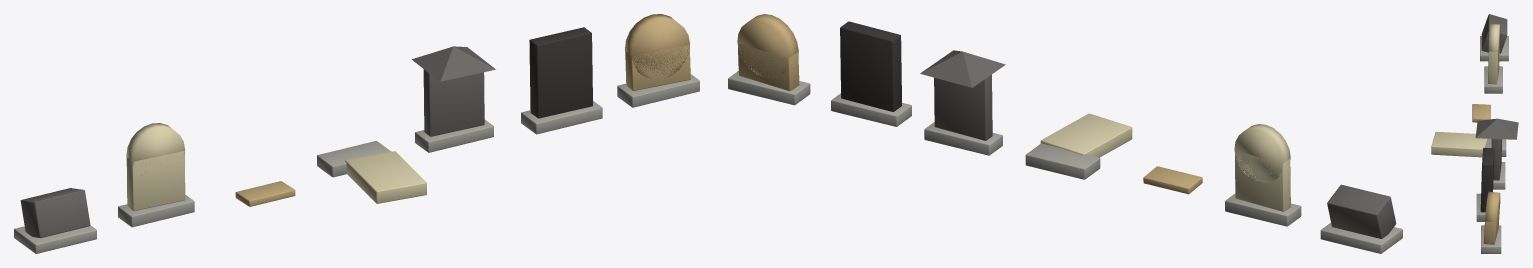
File: graveyard_grave_row_0.glb
3 renders of one model, left to right at view 1: azimuth 30°, elevation 25°; view 2: azimuth 150°, elevation 25°; view 3: azimuth 270°, elevation 25°, orthographic. The views are drawn at different scales.
Parts seen in each view (by area): view 1: stone_5_slab, stone_4_slab, stone_1_slab, fallen_slab, stone_6_top, slant_0, stone_6_slab, stone_4_gable, stone_1_top, stone_6_base, stone_5_base, slant_0_base (+4 smaller); view 2: stone_5_slab, stone_4_slab, slant_0, stone_1_slab, fallen_slab, stone_1_top, stone_6_top, stone_6_slab, stone_4_gable, fallen_base, stone_6_base, slant_0_base (+4 smaller); view 3: fallen_slab, stone_4_gable, stone_5_slab, slant_0, stone_6_top, stone_6_base, stone_1_slab, stone_4_slab, stone_1_base, stone_6_slab, stone_1_top, flat_2 (+4 smaller).
Part boxes in pixels (x1,y1,x2,y2): stone_5_slab: [529, 27, 592, 118]; stone_4_slab: [423, 69, 484, 136]; stone_1_slab: [126, 151, 185, 211]; fallen_slab: [345, 151, 426, 203]; stone_6_top: [624, 14, 689, 78]; slant_0: [20, 188, 90, 238]; stone_6_slab: [625, 45, 690, 90]; stone_4_gable: [411, 46, 495, 81]; stone_1_top: [126, 123, 185, 175]; stone_6_base: [617, 74, 699, 107]; stone_5_base: [521, 101, 602, 134]; slant_0_base: [14, 225, 96, 253]; stone_5_slab: [840, 21, 901, 111]; stone_4_slab: [934, 74, 992, 140]; slant_0: [1327, 184, 1396, 238]; stone_1_slab: [1235, 151, 1290, 211]; fallen_slab: [1040, 113, 1132, 157]; stone_1_top: [1234, 124, 1290, 182]; stone_6_top: [737, 14, 798, 77]; stone_6_slab: [738, 43, 799, 91]; stone_4_gable: [920, 50, 1005, 87]; fallen_base: [1025, 143, 1100, 179]; stone_6_base: [728, 71, 810, 105]; slant_0_base: [1320, 223, 1402, 253]; fallen_slab: [1431, 131, 1487, 157]; stone_4_gable: [1475, 118, 1518, 139]; stone_5_slab: [1480, 148, 1494, 212]; slant_0: [1481, 14, 1507, 53]; stone_6_top: [1485, 191, 1500, 233]; stone_6_base: [1481, 225, 1501, 253]; stone_1_slab: [1488, 44, 1499, 84]; stone_4_slab: [1491, 139, 1501, 180]; stone_1_base: [1484, 66, 1502, 93]; stone_6_slab: [1483, 206, 1499, 244]; stone_1_top: [1488, 24, 1500, 62]; flat_2: [1472, 104, 1490, 122].
Size of the model in its own units: 8.64 by 1.16 by 1.5.
